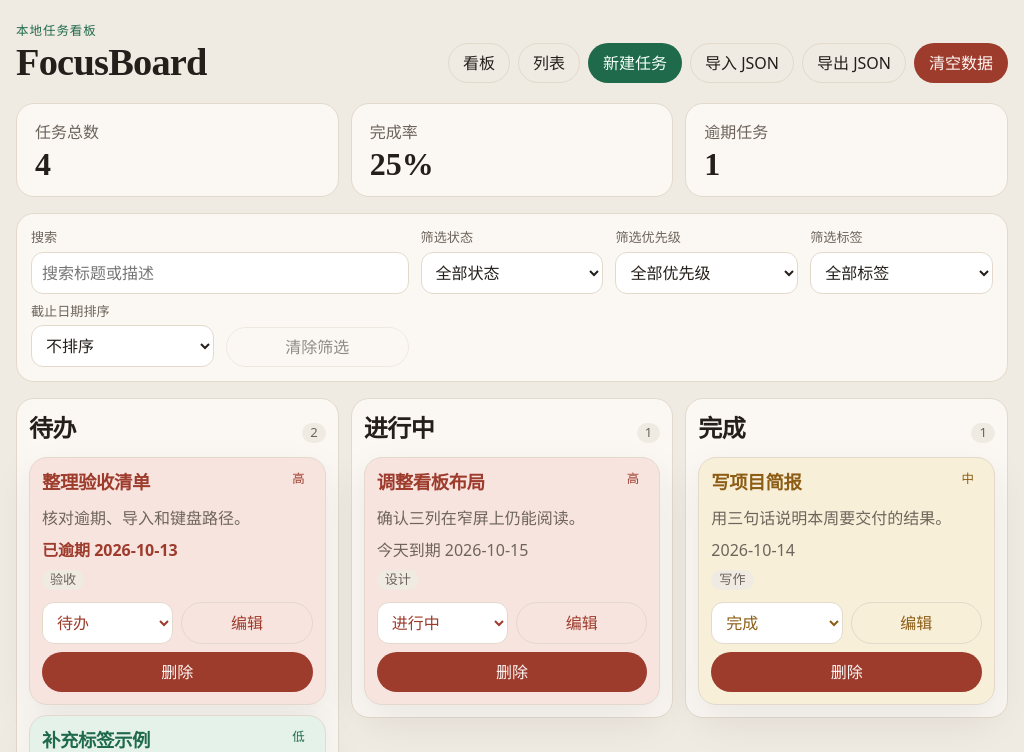
看板界面 › 可以切换列表，并把未完成的逾期任务标成完成
Step 1. Click the button "列表" → (549, 63), box [518,43,580,83]
(page scrolled)
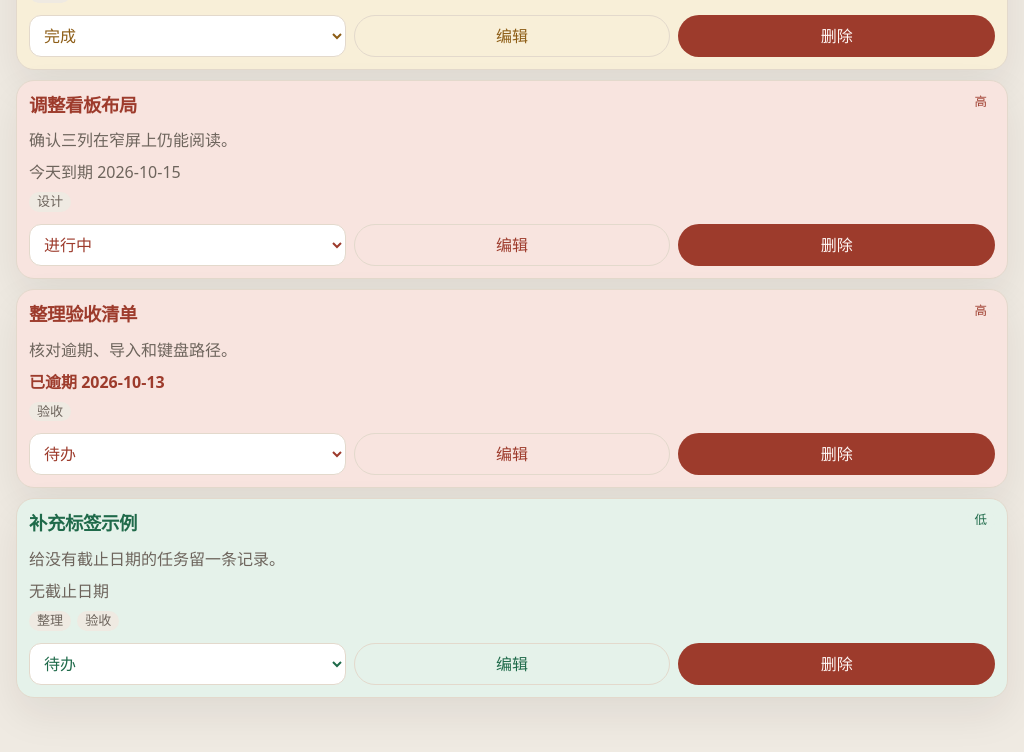
Step 2. Select "完成" in the dropdown named "状态 整理验收清单" → (187, 454), box [29,433,346,475]
(page scrolled)
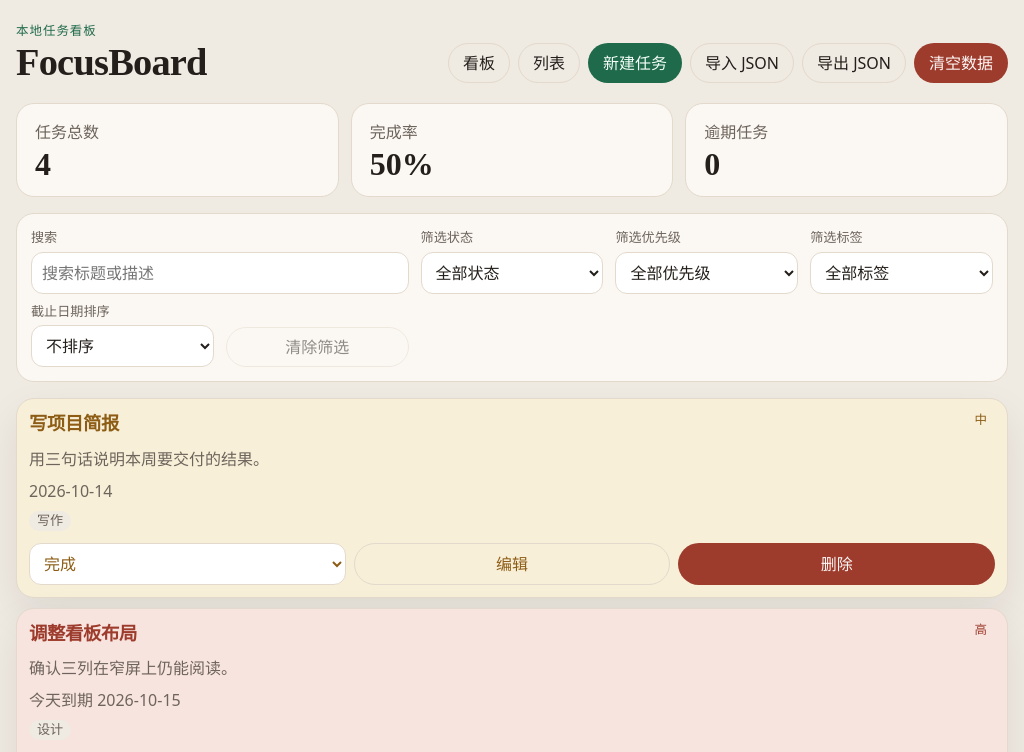
expect the text with test id "stat-overdue" reads "0": met, box [704,146,720,182]
expect the text with test id "stat-rate" reads "50%": met, box [370,146,434,182]
